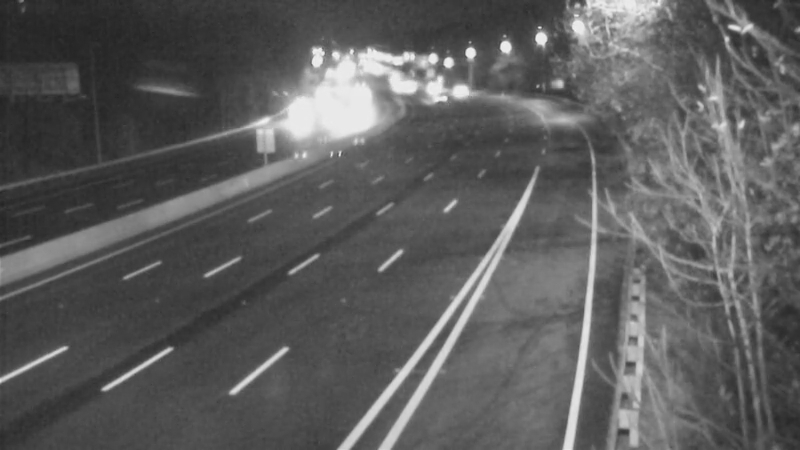vehicle: (411, 75, 461, 125), (278, 93, 328, 143)
